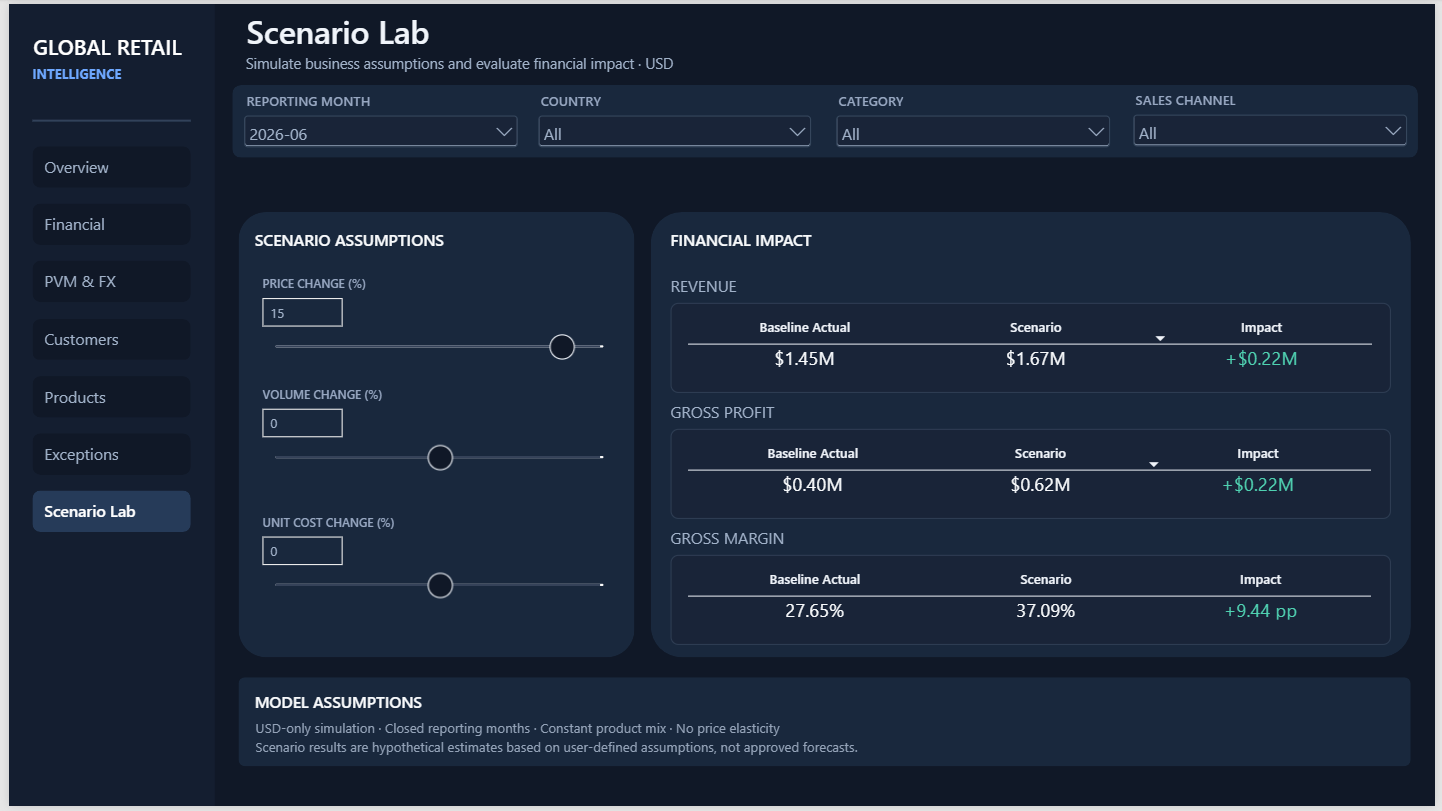

The page's visual inventory and layout, read from the dashboard file:
{"tool":"powerbi","page":{"name":"Scenario Lab","canvas":[1440,810],"ordinal":6},"visuals":[{"type":"shape","title":"Sidebar Background","box":[0,0,208,810],"z":0},{"type":"textbox","title":"Sidebar Brand Title","box":[24.1,28,168,30],"z":1000},{"type":"textbox","title":"Sidebar Brand Subtitle","box":[24,60,168,22],"z":2000},{"type":"shape","title":"Line","box":[24,112,160,12],"z":3000},{"type":"pageNavigator","box":[24,144,160,392],"z":4000},{"type":"shape","box":[225.3,81.6,1197.7,73.6],"z":5000},{"type":"textbox","title":"Header Page Title","box":[240,5.6,648.9,53.3],"z":6000},{"type":"textbox","title":"Header Subtitle","box":[238.9,50,650,27.8],"z":7000},{"type":"shape","box":[648,210,768,450],"z":8000},{"type":"slicer","fields":{"Values":["DimDate.YearMonth"]},"box":[232.1,87.9,287.4,67.2],"z":9000},{"type":"slicer","fields":{"Values":["DimCountry.country_name"]},"box":[529.4,87.9,286.4,67.2],"z":10000},{"type":"slicer","fields":{"Values":["DimCategory.category_name"]},"box":[829.6,87.9,287.4,67.2],"z":11000},{"type":"slicer","fields":{"Values":["DimSalesChannel.sales_channel_name"]},"box":[1129.9,86.9,287.4,68.1],"z":12000},{"type":"shape","box":[232,210,400,450],"z":13000},{"type":"textbox","box":[248,226,350,28],"z":14000},{"type":"slicer","fields":{"Values":["ScenarioPriceChange.Value"]},"box":[248.3,273.6,367.8,97.7],"z":15000},{"type":"slicer","fields":{"Values":["ScenarioVolumeChange.Value"]},"box":[248.3,385.1,367.8,97.7],"z":16000},{"type":"slicer","fields":{"Values":["ScenarioUnitCostChange.Value"]},"box":[248.3,514.9,367.8,97.7],"z":17000},{"type":"textbox","box":[668,226,350,28],"z":18000},{"type":"textbox","box":[668,273,250,24],"z":19000},{"type":"tableEx","fields":{"Values":["_Measures.Global Revenue USD","_Measures.Scenario Revenue USD","_Measures.Scenario Revenue Impact USD"]},"box":[667.8,302.2,727.8,91.1],"z":20000},{"type":"textbox","box":[668,400,250,24],"z":21000},{"type":"tableEx","fields":{"Values":["_Measures.Global Gross Profit USD","_Measures.Scenario Gross Profit USD","_Measures.Scenario Gross Profit Impact USD"]},"box":[668,429,727.8,91.1],"z":22000},{"type":"textbox","box":[668,527,250,24.4],"z":23000},{"type":"tableEx","fields":{"Values":["_Measures.Global Gross Margin %","_Measures.Scenario Gross Margin %","_Measures.Scenario Gross Margin Impact pp"]},"box":[668,556,727.8,91.1],"z":24000},{"type":"shape","box":[232.2,680,1184,90],"z":25000},{"type":"textbox","box":[248,694,350,24],"z":26000},{"type":"textbox","title":"Header Subtitle","box":[248.9,721,1135,42],"z":27000}]}

Visuals, with their boxes in screenshot pixels (x1, y1, x2, y2), scaled from the page's 1440x810 canvas onto the 1442x811 screenshot:
"Sidebar Background" shape: 0:0:208:810
"Sidebar Brand Title" textbox: 24:28:192:58
"Sidebar Brand Subtitle" textbox: 24:60:192:82
"Line" shape: 24:112:184:124
pageNavigator: 24:144:184:537
shape: 226:82:1425:155
"Header Page Title" textbox: 240:6:890:59
"Header Subtitle" textbox: 239:50:890:78
shape: 649:210:1418:661
slicer - DimDate.YearMonth: 232:88:520:155
slicer - DimCountry.country_name: 530:88:817:155
slicer - DimCategory.category_name: 831:88:1119:155
slicer - DimSalesChannel.sales_channel_name: 1131:87:1419:155
shape: 232:210:633:661
textbox: 248:226:599:254
slicer - ScenarioPriceChange.Value: 249:274:617:372
slicer - ScenarioVolumeChange.Value: 249:386:617:483
slicer - ScenarioUnitCostChange.Value: 249:516:617:613
textbox: 669:226:1019:254
textbox: 669:273:919:297
tableEx - _Measures.Global Revenue USD x _Measures.Scenario Revenue USD: 669:303:1398:394
textbox: 669:400:919:425
tableEx - _Measures.Global Gross Profit USD x _Measures.Scenario Gross Profit USD: 669:430:1398:521
textbox: 669:528:919:552
tableEx - _Measures.Global Gross Margin % x _Measures.Scenario Gross Margin %: 669:557:1398:648
shape: 233:681:1418:771
textbox: 248:695:599:719
"Header Subtitle" textbox: 249:722:1386:764
